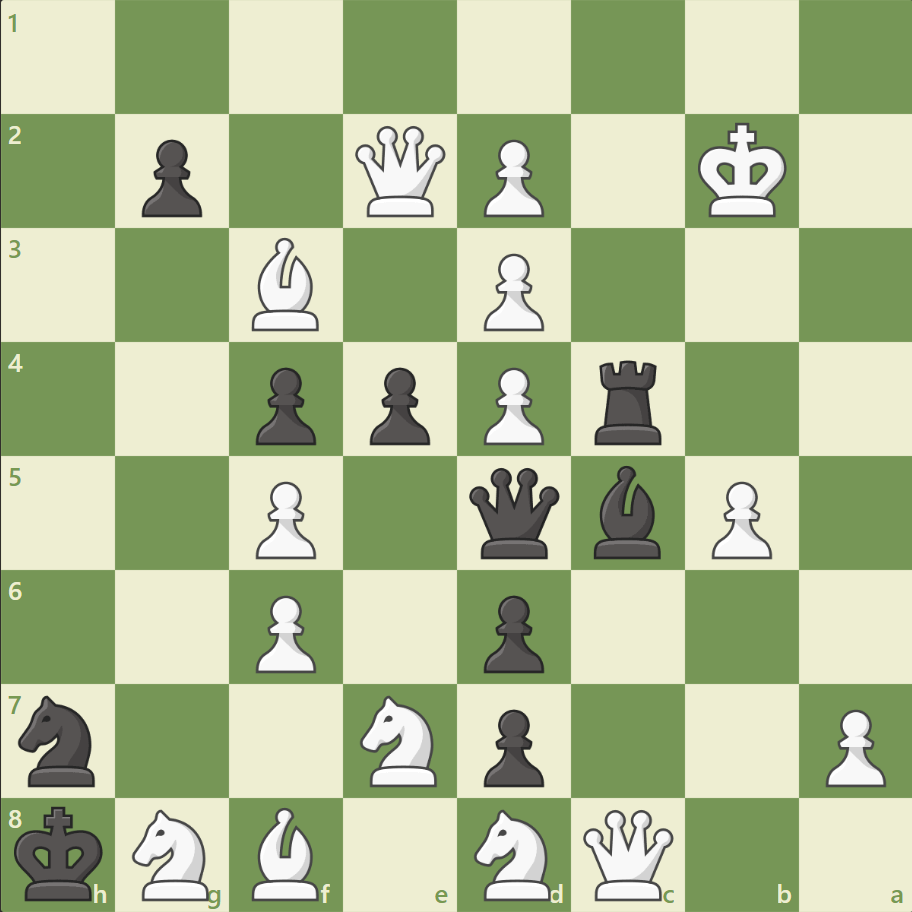B: (244, 801, 328, 904), (244, 233, 328, 336)
K: (692, 117, 792, 225)
N: (351, 688, 449, 791), (124, 802, 222, 904), (465, 802, 562, 904)
P: (247, 586, 322, 677), (701, 473, 776, 564), (247, 473, 322, 564), (474, 359, 549, 450), (474, 246, 549, 337), (474, 132, 549, 223), (815, 700, 889, 791)
Q: (351, 122, 450, 222), (578, 804, 677, 903)
b: (585, 460, 669, 563)
k: (11, 798, 111, 906)
n: (11, 688, 108, 791)
p: (474, 700, 549, 791), (474, 586, 549, 677), (247, 359, 322, 450), (133, 132, 208, 223), (361, 359, 435, 450)
q: (464, 463, 563, 562)
r: (587, 352, 670, 449)
